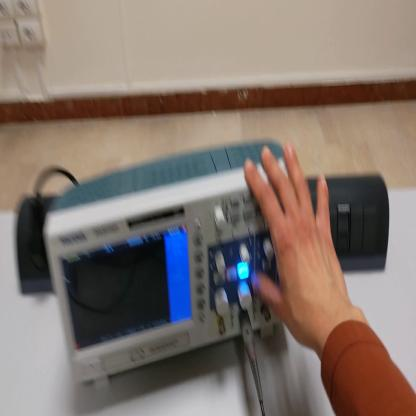hand: (245, 143, 352, 352)
oscilloscope: (52, 135, 290, 395)
socket: (15, 194, 56, 298)
